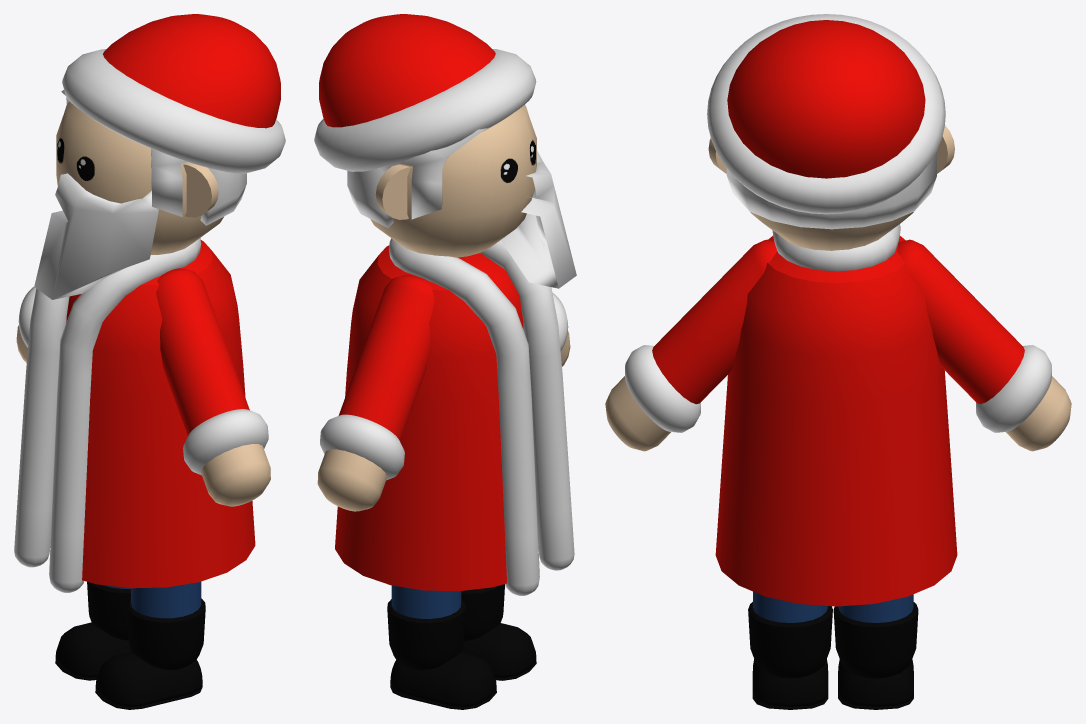
The model's file is ded.glb.
The picture shows the model from 3 angles, left to right: view 1: azimuth 30°, elevation 25°; view 2: azimuth 150°, elevation 25°; view 3: azimuth 270°, elevation 25°; orthographic projection. The views are drawn at different scales.
Parts seen in each view (by area): view 1: Цилиндр.006, Цилиндр.099, Сфера, Цилиндр.003, Torus, Куб, Цилиндр.001, Цилиндр.007, Цилиндр.053, Цилиндр.061, Torus.001, Цилиндр.057 (+3 smaller); view 2: Цилиндр.006, Цилиндр.099, Сфера, Цилиндр.054, Цилиндр.001, Torus, Цилиндр.056, Куб, Цилиндр.057, Цилиндр.061, Torus.003, Цилиндр.053 (+4 smaller); view 3: Цилиндр.006, Сфера, Torus, Цилиндр.054, Цилиндр.003, Цилиндр.007, Цилиндр.056, Цилиндр.061, Torus.001, Torus.003, Цилиндр.099, Цилиндр.053 (+2 smaller).
Part boxes in pixels (x1=…): Цилиндр.006: x1=82, y1=240, x2=255, y2=588; Цилиндр.099: x1=14, y1=238, x2=201, y2=592; Сфера: x1=103, y1=14, x2=280, y2=128; Цилиндр.003: x1=156, y1=268, x2=270, y2=506; Torus: x1=62, y1=49, x2=285, y2=173; Куб: x1=34, y1=173, x2=158, y2=299; Цилиндр.001: x1=56, y1=101, x2=223, y2=254; Цилиндр.007: x1=126, y1=581, x2=205, y2=669; Цилиндр.053: x1=95, y1=652, x2=202, y2=709; Цилиндр.061: x1=61, y1=90, x2=246, y2=225; Torus.001: x1=183, y1=409, x2=268, y2=475; Цилиндр.057: x1=55, y1=622, x2=131, y2=680; Цилиндр.006: x1=335, y1=245, x2=506, y2=591; Цилиндр.099: x1=388, y1=238, x2=574, y2=595; Сфера: x1=319, y1=14, x2=495, y2=127; Цилиндр.054: x1=317, y1=275, x2=434, y2=511; Цилиндр.001: x1=370, y1=105, x2=536, y2=257; Torus: x1=314, y1=49, x2=536, y2=171; Цилиндр.056: x1=387, y1=585, x2=465, y2=670; Куб: x1=501, y1=150, x2=576, y2=288; Цилиндр.057: x1=390, y1=652, x2=496, y2=709; Цилиндр.061: x1=347, y1=105, x2=527, y2=227; Torus.003: x1=320, y1=414, x2=404, y2=480; Цилиндр.053: x1=461, y1=623, x2=536, y2=680; Цилиндр.006: x1=715, y1=235, x2=957, y2=606; Сфера: x1=727, y1=20, x2=925, y2=178; Torus: x1=707, y1=14, x2=945, y2=214; Цилиндр.054: x1=897, y1=239, x2=1071, y2=451; Цилиндр.003: x1=605, y1=239, x2=777, y2=451; Цилиндр.007: x1=748, y1=591, x2=832, y2=678; Цилиндр.056: x1=833, y1=594, x2=918, y2=678; Цилиндр.061: x1=726, y1=151, x2=936, y2=229; Torus.001: x1=625, y1=345, x2=700, y2=432; Torus.003: x1=976, y1=345, x2=1051, y2=432; Цилиндр.099: x1=772, y1=224, x2=900, y2=271; Цилиндр.053: x1=752, y1=659, x2=828, y2=709.
Size of the model in its own units: 2.63 by 6.87 by 4.25.
6 materials, 1 textured.
